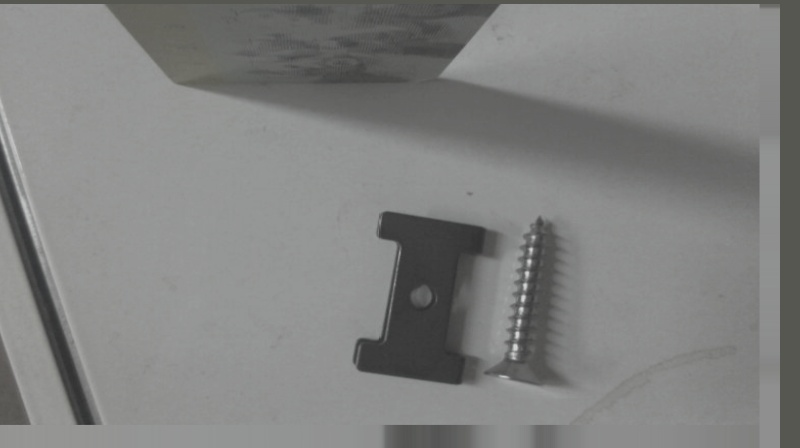O002: (352, 213, 483, 386)
S001: (482, 205, 550, 389)
